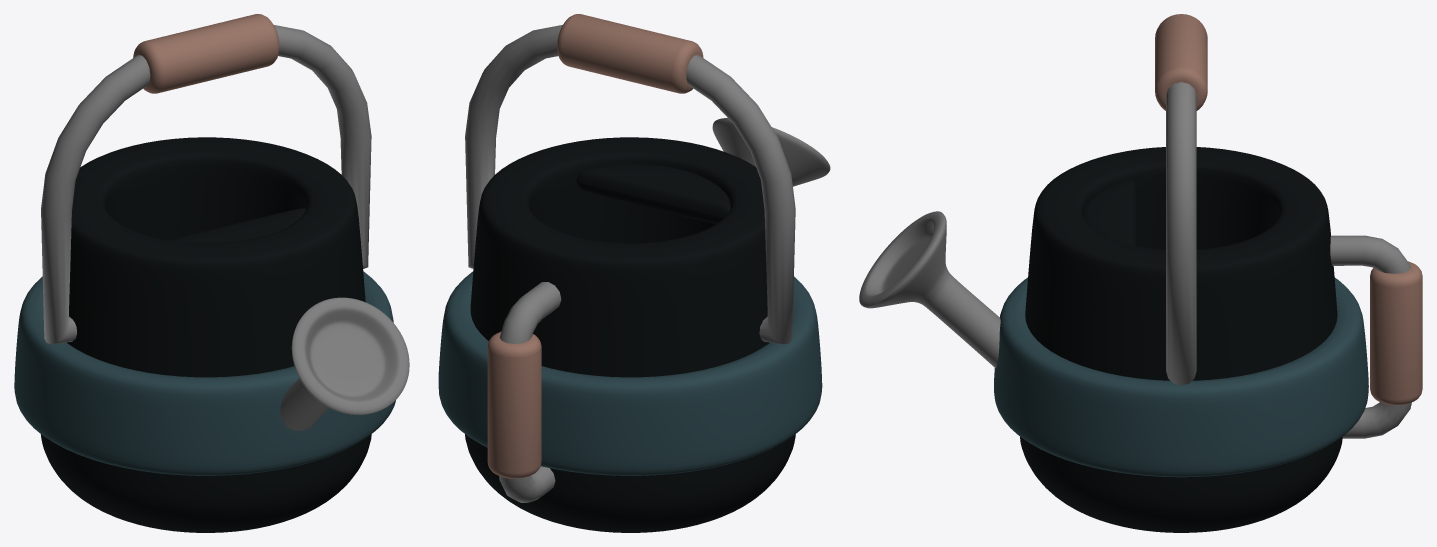
File: Tool_WateringCan.obj
The picture shows the model from 3 angles, left to right: view 1: azimuth 30°, elevation 25°; view 2: azimuth 150°, elevation 25°; view 3: azimuth 270°, elevation 25°; orthographic projection. The views are drawn at different scales.
Parts seen in each view (by area): view 1: Tool_WateringCan_Body, Tool_WateringCan_Band_Plastic, Tool_WateringCan_Handle_Top, Tool_WateringCan_Spout; view 2: Tool_WateringCan_Body, Tool_WateringCan_Band_Plastic, Tool_WateringCan_Handle_Top, Tool_WateringCan_Handle_Side, Tool_WateringCan_Spout; view 3: Tool_WateringCan_Body, Tool_WateringCan_Band_Plastic, Tool_WateringCan_Handle_Top, Tool_WateringCan_Handle_Side, Tool_WateringCan_Spout.
Boxes of the visible parts, x1,y1,x2,y2 form: Tool_WateringCan_Body: (40,137,371,532); Tool_WateringCan_Band_Plastic: (14,271,395,475); Tool_WateringCan_Handle_Top: (41,14,371,344); Tool_WateringCan_Spout: (280,297,409,430); Tool_WateringCan_Body: (465,137,795,532); Tool_WateringCan_Band_Plastic: (438,271,822,475); Tool_WateringCan_Handle_Top: (465,14,795,344); Tool_WateringCan_Handle_Side: (487,282,561,502); Tool_WateringCan_Spout: (712,118,830,186); Tool_WateringCan_Body: (1020,147,1342,532); Tool_WateringCan_Band_Plastic: (994,277,1368,477); Tool_WateringCan_Handle_Top: (1155,14,1207,385); Tool_WateringCan_Handle_Side: (1330,235,1422,438); Tool_WateringCan_Spout: (859,211,1000,368).
Bounding box in the file's own units: 1.28 × 1.69 × 1.92.
